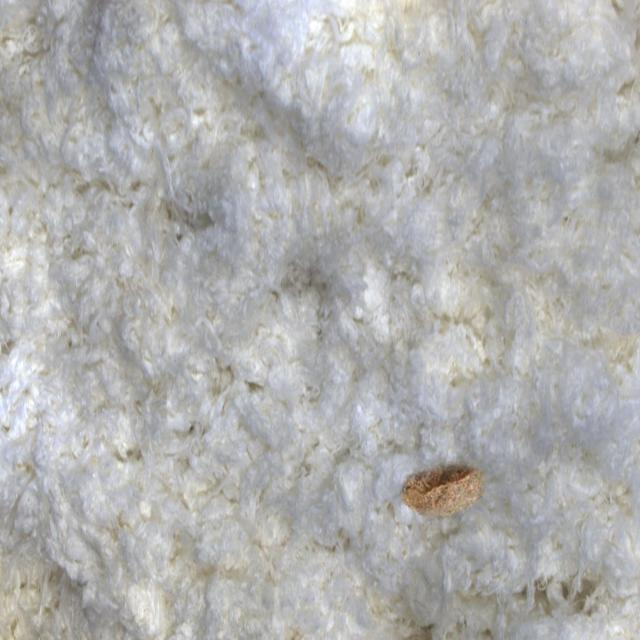dust: (364, 409, 509, 572)
